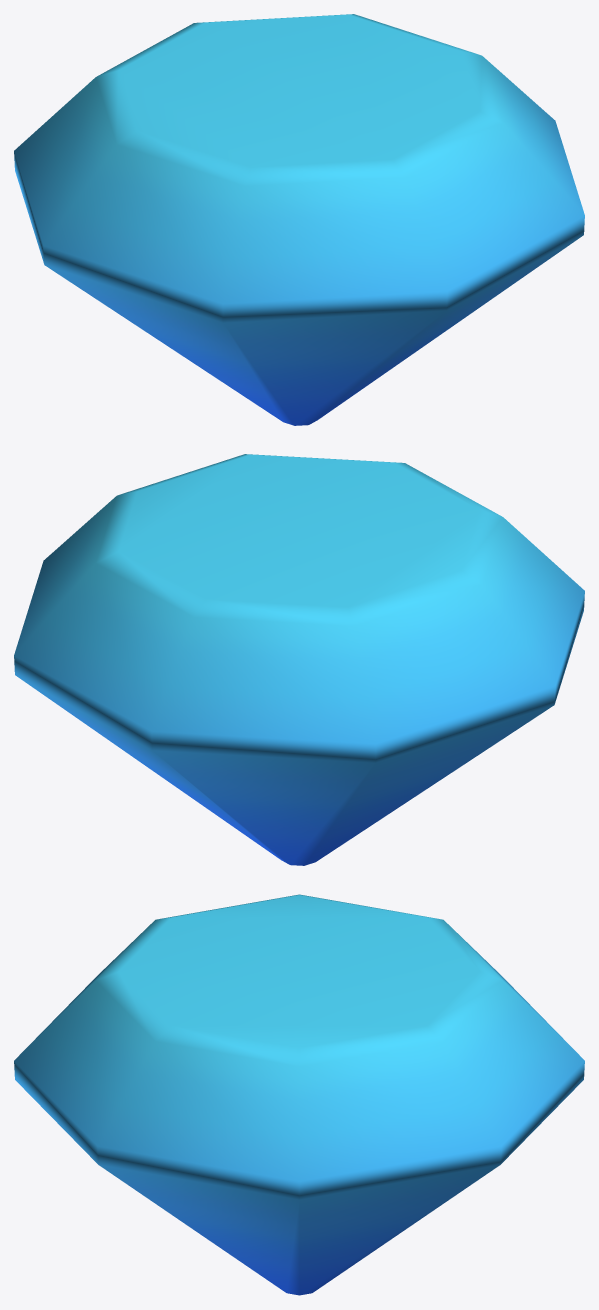
File: Gem.fbx
The picture shows the model from 3 angles, top to bottom: view 1: azimuth 30°, elevation 25°; view 2: azimuth 150°, elevation 25°; view 3: azimuth 270°, elevation 25°; orthographic projection. The views are drawn at different scales.
Visible parts, largest first — view 1: Gem; view 2: Gem; view 3: Gem.
Part boxes in pixels (bbox=[...]): Gem: bbox=[14, 14, 584, 425]; Gem: bbox=[14, 454, 584, 865]; Gem: bbox=[14, 894, 584, 1295].
Bounding box in the file's own units: 26.88 × 16.42 × 26.88.
